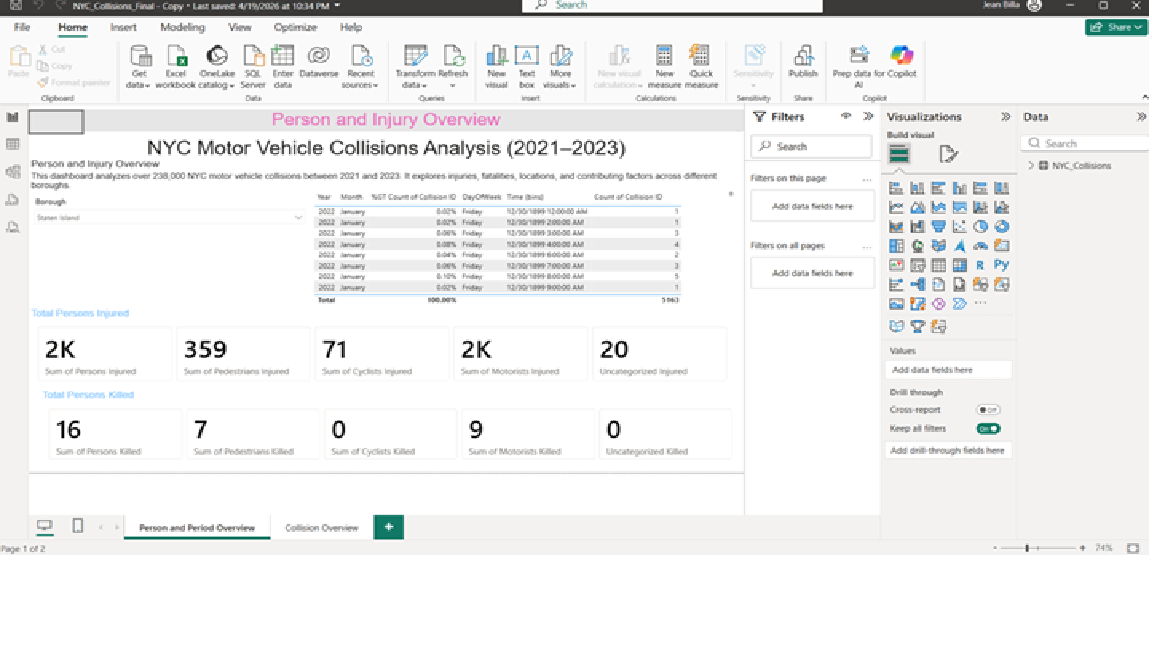

The dashboard page shown, as its layout file describes it:
{"tool":"powerbi","page":{"name":"Person and Period Overview","canvas":[1280,720],"ordinal":0},"visuals":[{"type":"textbox","box":[0,60.5,1280.3,94.1],"z":0},{"type":"textbox","title":"Person and Injury Overview","box":[0,107.6,1280.3,71.3],"z":1000},{"type":"cardVisual","title":"Total Persons Injured","fields":{"Data":["Sum(NYC_Collisions.Persons Injured)","Sum(NYC_Collisions.Pedestrians Injured)","Sum(NYC_Collisions.Cyclists Injured)","Sum(NYC_Collisions.Motorists Injured)","NYC_Collisions.Uncategorized Injured"]},"box":[0,398.1,1266.8,160],"z":3000},{"type":"cardVisual","title":"Total Persons Killed","fields":{"Data":["Sum(NYC_Collisions.Persons Killed)","Sum(NYC_Collisions.Pedestrians Killed)","Sum(NYC_Collisions.Cyclists Killed)","Sum(NYC_Collisions.Motorists Killed)","NYC_Collisions.Uncategorized Killed"]},"box":[20.2,558.1,1260.1,152],"z":4000},{"type":"tableEx","fields":{"Values":["NYC_Collisions.Date.Variation.Date Hierarchy.Year","NYC_Collisions.Date.Variation.Date Hierarchy.Month","Divide(CountNonNull(NYC_Collisions.Collision ID), ScopedEval(CountNonNull(NYC_Collisions.Collision ID), []))","NYC_Collisions.DayOfWeek","NYC_Collisions.Time (bins)","CountNonNull(NYC_Collisions.Collision ID)"]},"box":[505.7,166.8,761.2,231.3],"z":5000},{"type":"textbox","title":"Person and Injury Overview","box":[0,12.1,1280.3,48.4],"z":6000},{"type":"actionButton","box":[0,12.1,99.5,48.4],"z":7000},{"type":"slicer","fields":{"Values":["NYC_Collisions.Borough"]},"box":[0,179,506,219],"z":7001}]}

Visuals, with their boxes on the page's 1280x720 design canvas (x1, y1, x2, y2). These are canvas units, not pixel positions in the 1152x648 screenshot, which may show the page scaled, cropped or inside an application window:
textbox: Rect(0, 60, 1280, 155)
"Person and Injury Overview" textbox: Rect(0, 108, 1280, 179)
"Total Persons Injured" cardVisual: Rect(0, 398, 1267, 558)
"Total Persons Killed" cardVisual: Rect(20, 558, 1280, 710)
tableEx - NYC_Collisions.Date.Variation.Date Hierarchy.Year x NYC_Collisions.Date.Variation.Date Hierarchy.Month: Rect(506, 167, 1267, 398)
"Person and Injury Overview" textbox: Rect(0, 12, 1280, 60)
actionButton: Rect(0, 12, 100, 60)
slicer - NYC_Collisions.Borough: Rect(0, 179, 506, 398)
